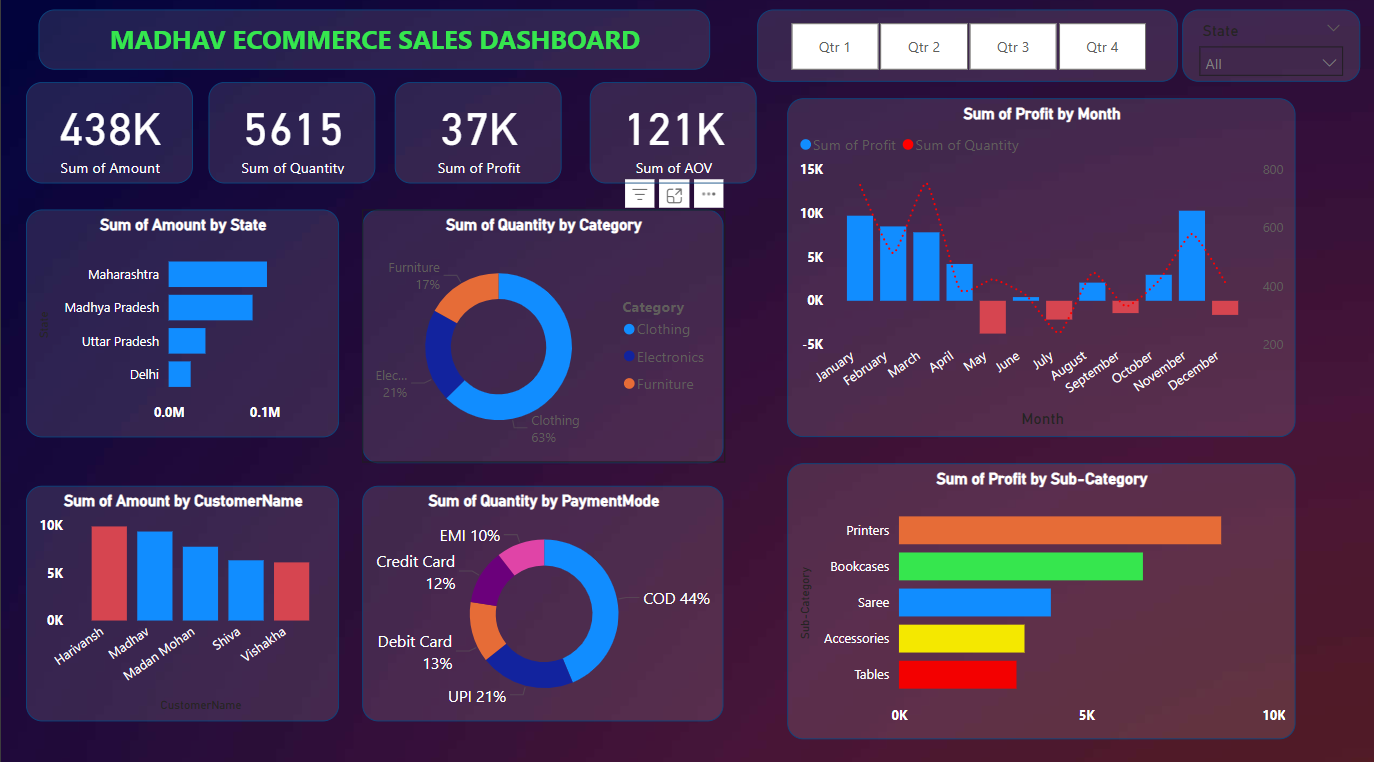

Layout of this report page (visuals, bound fields, positions):
{"tool":"powerbi","page":{"name":"Page 1","canvas":[1280,720],"ordinal":0},"visuals":[{"type":"textbox","box":[9.5,0,629.9,60.4],"z":0},{"type":"lineClusteredColumnComboChart","title":"Sum of Profit by Month","fields":{"Category":["Orders.Order Date.Variation.Date Hierarchy.Month"],"Y":["Details.Profit"],"Y2":["Details.Quantity"]},"box":[731.3,98.3,472.4,315.6],"z":1000},{"type":"barChart","fields":{"Category":["Details.Sub-Category"],"Y":["Details.Profit"]},"box":[731.3,438.4,472.4,257],"z":2000},{"type":"donutChart","fields":{"Category":["Details.PaymentMode"],"Y":["Details.Quantity"]},"box":[336.4,459.2,336.4,219.2],"z":3000},{"type":"donutChart","fields":{"Category":["Details.Category"],"Y":["Details.Quantity"]},"box":[336.4,202.2,336.4,236.2],"z":4000},{"type":"card","fields":{"Values":["Details.Amount"]},"box":[22.7,83.2,155,94.5],"z":5000},{"type":"card","fields":{"Values":["Details.Quantity"]},"box":[192.8,83.2,155,94.5],"z":6000},{"type":"card","fields":{"Values":["Details.Profit"]},"box":[366.6,83.2,155,94.5],"z":7000},{"type":"card","fields":{"Values":["Details.AOV"]},"box":[548,83.2,155,94.5],"z":8000},{"type":"barChart","fields":{"Category":["Orders.State"],"Y":["Details.Amount"]},"box":[22.7,202.2,291,211.7],"z":9000},{"type":"clusteredColumnChart","fields":{"Category":["Orders.CustomerName"],"Y":["Details.Amount"]},"box":[22.7,459.2,291,219.2],"z":10000},{"type":"slicer","fields":{"Values":["Orders.Order Date.Variation.Date Hierarchy.Quarter"]},"box":[703.1,15.9,391.3,66.8],"z":11000},{"type":"slicer","fields":{"Values":["Orders.State"]},"box":[1099.1,15.9,165.4,66.8],"z":12000}]}

Visuals, with their boxes in screenshot pixels (x1, y1, x2, y2), scaled from the page's 1280x720 canvas onto the 1374x762 screenshot:
textbox: bbox(10, 0, 686, 64)
"Sum of Profit by Month" lineClusteredColumnComboChart: bbox(785, 104, 1292, 438)
barChart - Details.Sub-Category x Details.Profit: bbox(785, 464, 1292, 736)
donutChart - Details.PaymentMode x Details.Quantity: bbox(361, 486, 722, 718)
donutChart - Details.Category x Details.Quantity: bbox(361, 214, 722, 464)
card - Details.Amount: bbox(24, 88, 191, 188)
card - Details.Quantity: bbox(207, 88, 373, 188)
card - Details.Profit: bbox(394, 88, 560, 188)
card - Details.AOV: bbox(588, 88, 755, 188)
barChart - Orders.State x Details.Amount: bbox(24, 214, 337, 438)
clusteredColumnChart - Orders.CustomerName x Details.Amount: bbox(24, 486, 337, 718)
slicer - Orders.Order Date.Variation.Date Hierarchy.Quarter: bbox(755, 17, 1175, 88)
slicer - Orders.State: bbox(1180, 17, 1357, 88)
